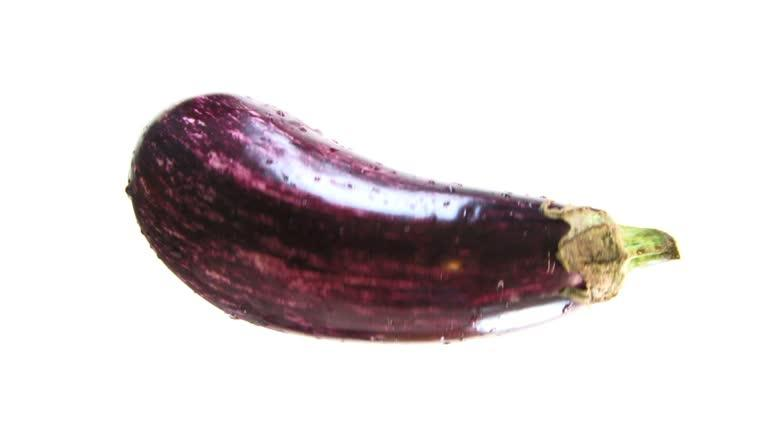Brinjal: (122, 88, 685, 349)
